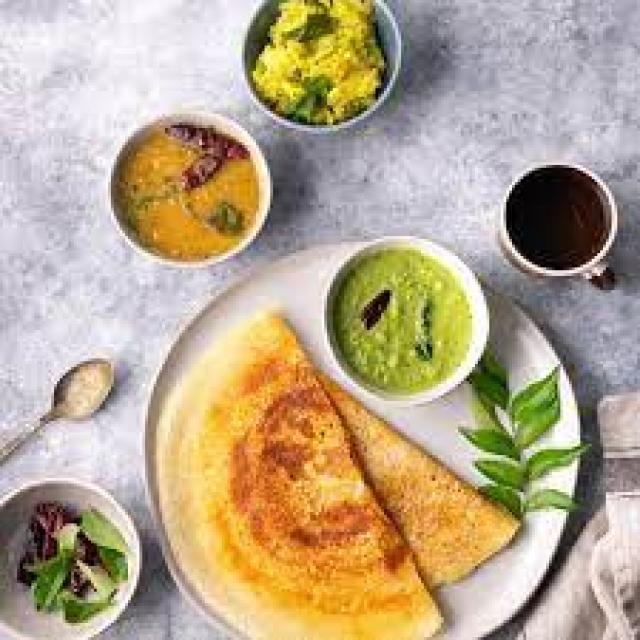chutney: (322, 225, 489, 398)
dosa: (156, 298, 438, 632), (174, 347, 520, 577)
